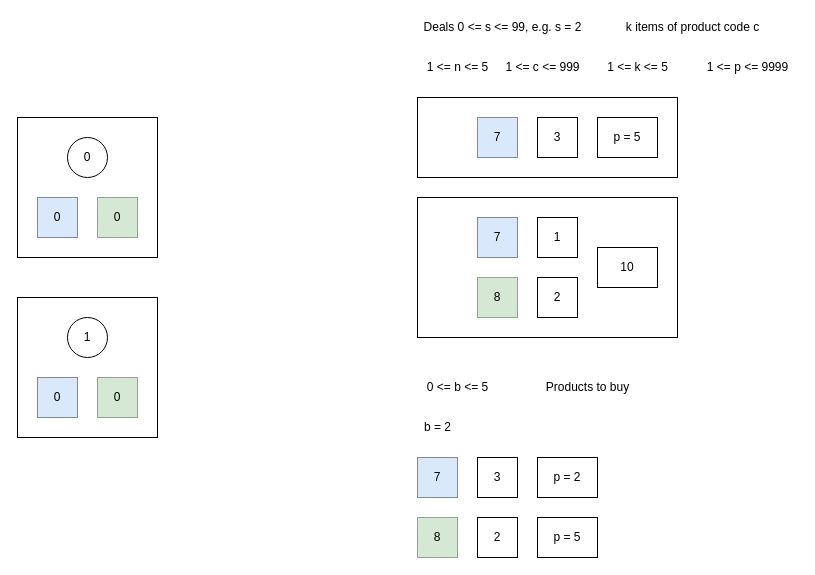
Some shapes in this 815 by 575 pixel diagram are drawn without their labels. The box of each missing label's shape, as (x1, y1, x2, y2) in pixels:
n = 1: (416, 96, 678, 178)
n = 2: (416, 196, 678, 338)
